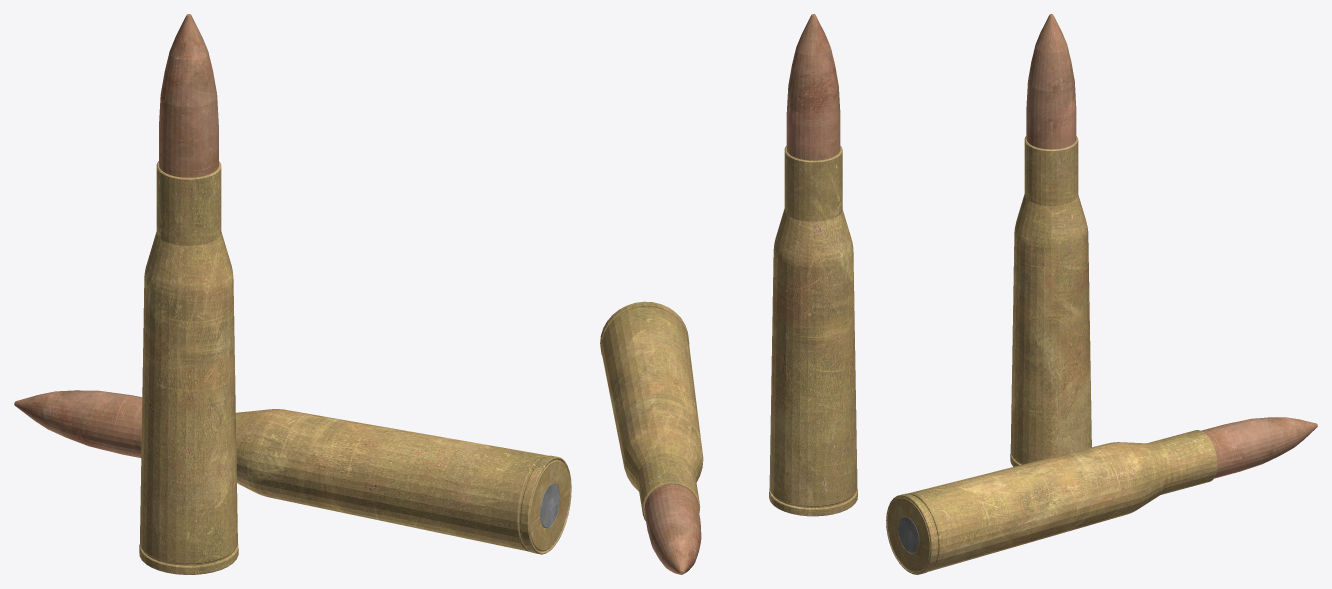
Rendered from bullet.fbx.
The picture shows the model from 3 angles, left to right: view 1: azimuth 30°, elevation 25°; view 2: azimuth 150°, elevation 25°; view 3: azimuth 270°, elevation 25°; orthographic projection. The views are drawn at different scales.
Parts seen in each view (by area): view 1: Mesh Object; view 2: Mesh Object; view 3: Mesh Object.
Boxes of the visible parts, x1=… form: Mesh Object: x1=14, y1=14, x2=571, y2=574; Mesh Object: x1=600, y1=14, x2=857, y2=574; Mesh Object: x1=886, y1=14, x2=1317, y2=574.
Size of the model in its own units: 0.0272 by 0.0397 by 0.0348.
